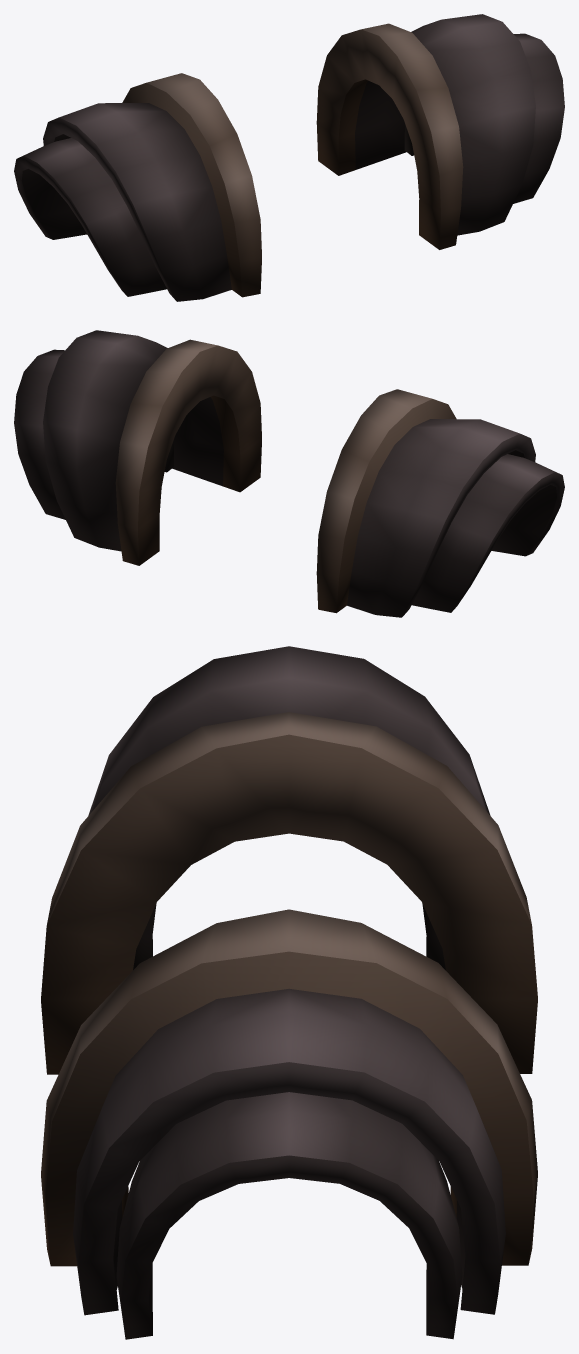
File: Equip_Shoulders_04_1.FBX
3 views of the same model, one above another, from view 1: azimuth 30°, elevation 25°; view 2: azimuth 150°, elevation 25°; view 3: azimuth 270°, elevation 25° (orthographic). The views are drawn at different scales.
Visible parts, largest first — view 1: Equip_Shoulders_04_1; view 2: Equip_Shoulders_04_1; view 3: Equip_Shoulders_04_1.
Boxes of the visible parts, <box> form: Equip_Shoulders_04_1: <box>14,14,564,301</box>; Equip_Shoulders_04_1: <box>14,330,564,617</box>; Equip_Shoulders_04_1: <box>41,646,537,1339</box>.
Size of the model in its own units: 48.36 by 15.59 by 20.66.
